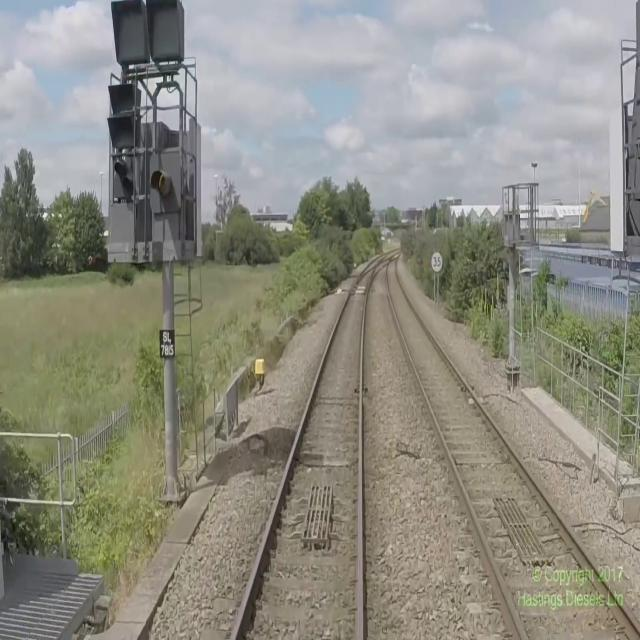rail-track: (387, 259, 640, 639), (235, 268, 373, 639), (362, 254, 386, 273), (373, 258, 389, 273)
